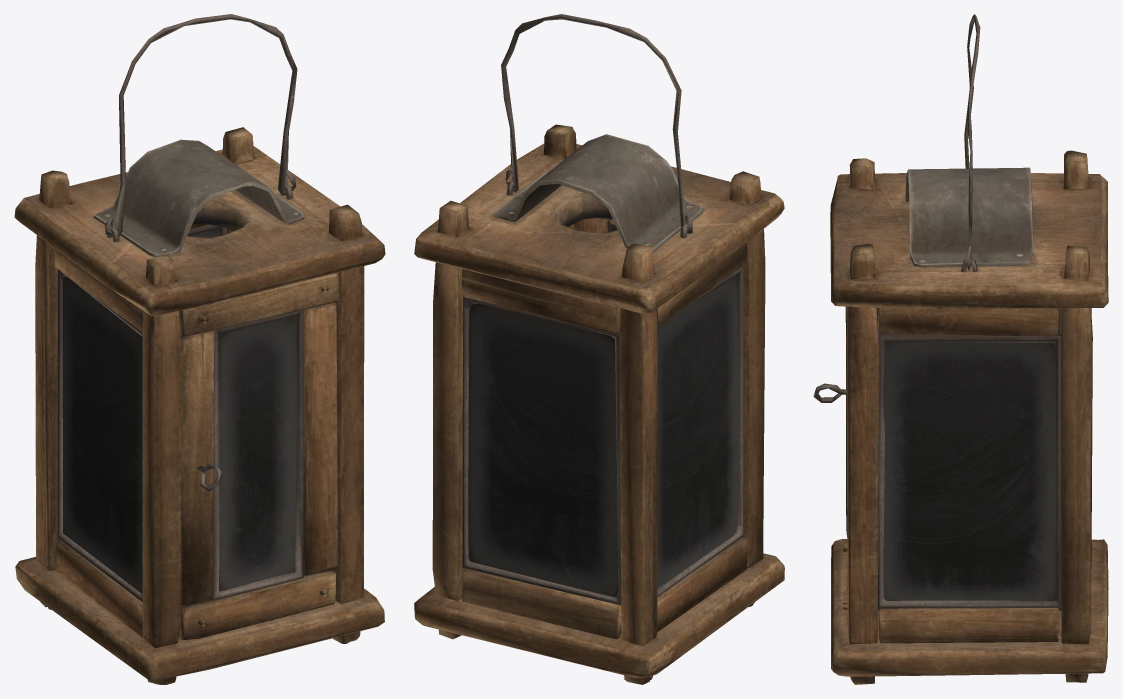
The model's file is lantern.glb.
The picture shows the model from 3 angles, left to right: view 1: azimuth 30°, elevation 25°; view 2: azimuth 150°, elevation 25°; view 3: azimuth 270°, elevation 25°; orthographic projection.
Visible parts, largest first — view 1: wooden_lantern_01; view 2: wooden_lantern_01; view 3: wooden_lantern_01.
Part boxes in pixels (x1,y1,x2,y2): wooden_lantern_01: (14, 14, 385, 684); wooden_lantern_01: (414, 14, 784, 684); wooden_lantern_01: (813, 14, 1108, 684).
Size of the model in its own units: 0.221 by 0.5287 by 0.2337.
Materials: 2 (2 with a texture image).
